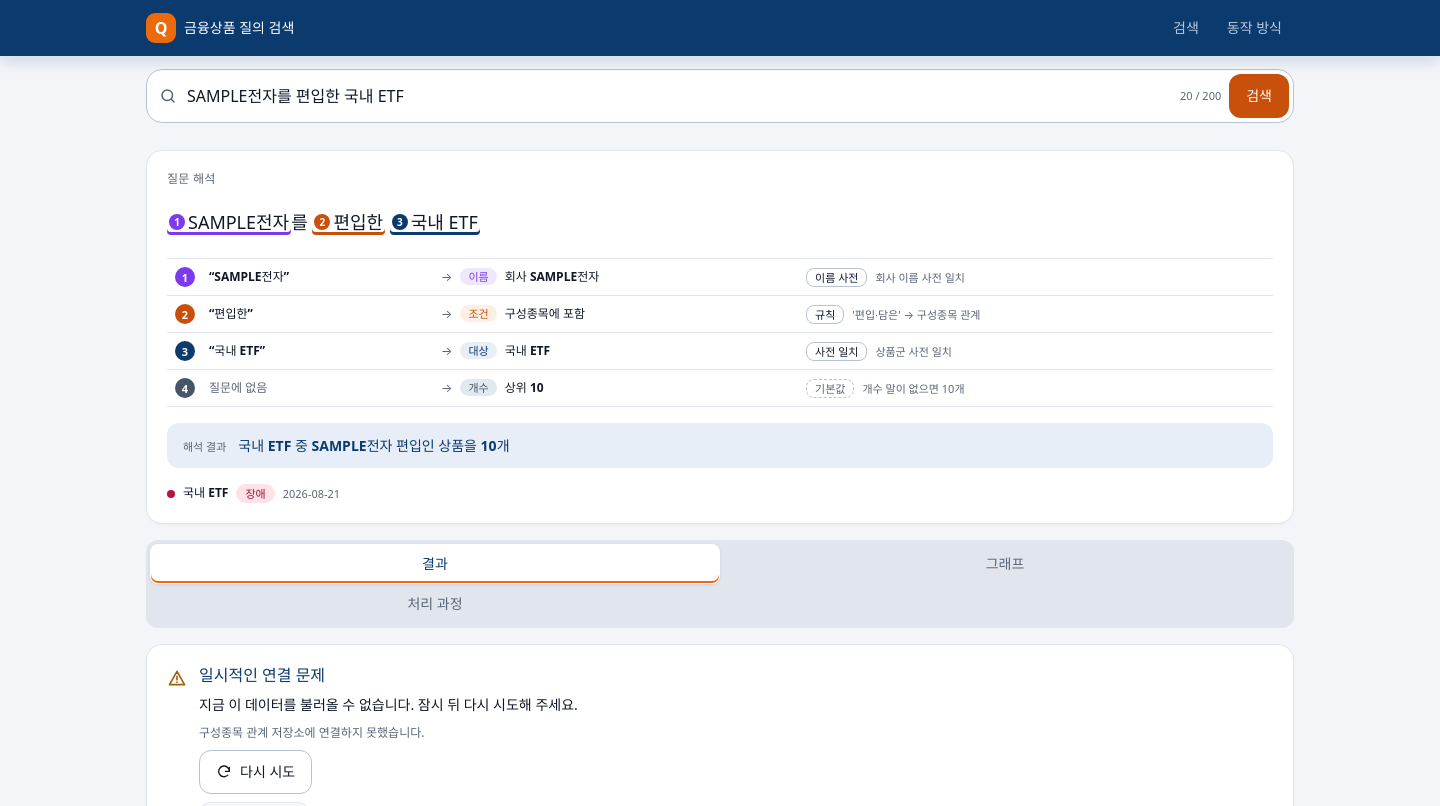
Test: 결과 — outcome 9종 › 탐색 그래프: 좁은 화면은 [결과 | 그래프 | 처리 과정] 탭, 장애는 표시로
Click the tab "그래프". click: (1005, 564)
box: [720,544,1290,584]
(page scrolled)
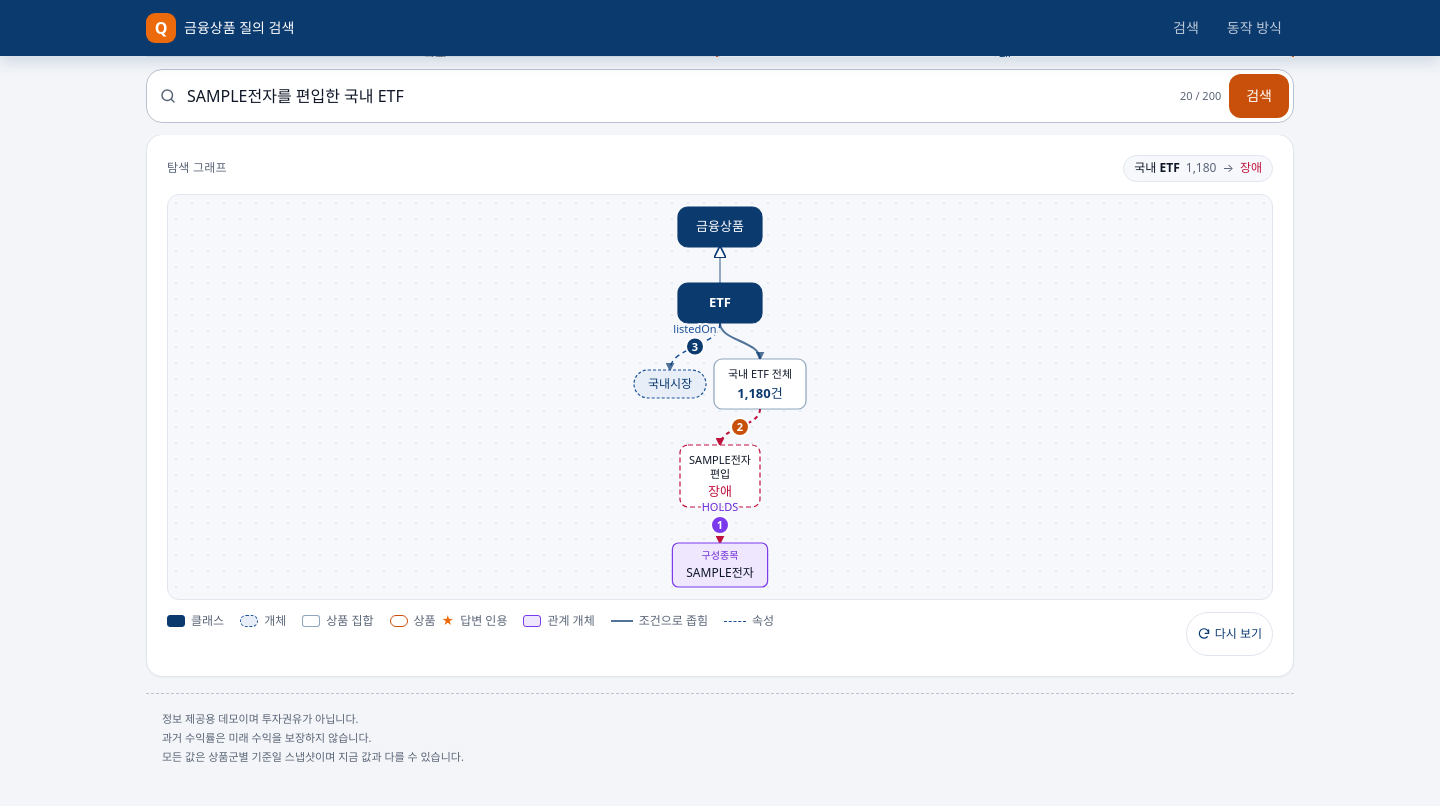
Expected: the list named "좁혀진 건수" shows "장애", [1240,159,1262,176]
Expected: the element "탐색 그래프" shows "구성종목", [702,548,738,562]
Expected: the element "탐색 그래프" shows "HOLDS", [702,499,738,514]
